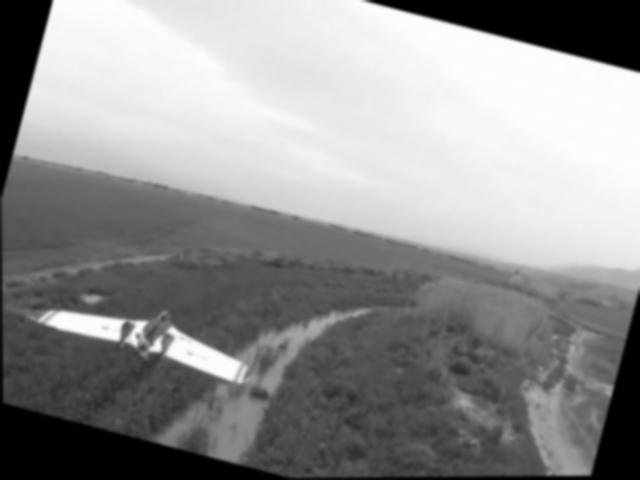hedef: (15, 256, 274, 408)
